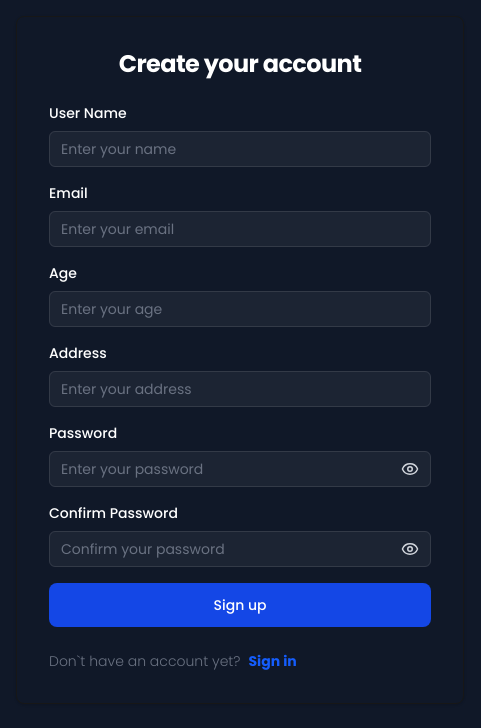
Test: RegisterForm component › shows validation when required inputs are blank
What coordinates should you click on to do the following:
click the button "Sign up"
I would click on:
 (240, 605)
Its box is [49,583,431,627].
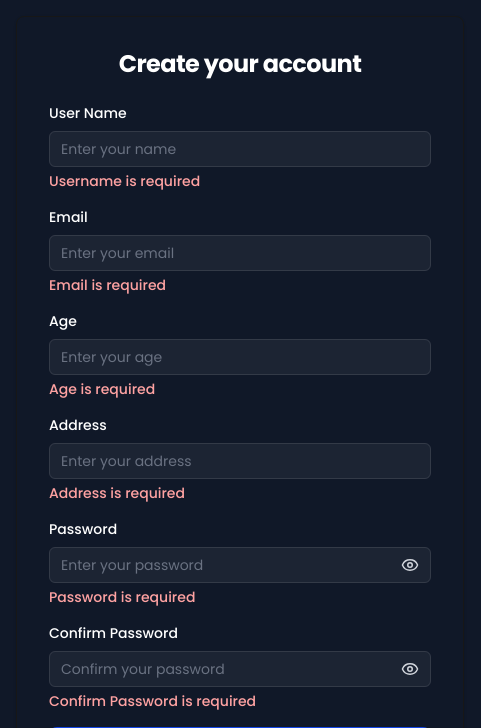
Result: the text "Username is required" is shown at [49,171,200,191]
Result: the text "Email is required" is shown at [49,275,166,295]
Result: the text "Password is required" is shown 2 times at [49,587,195,607]; [49,691,256,711]
